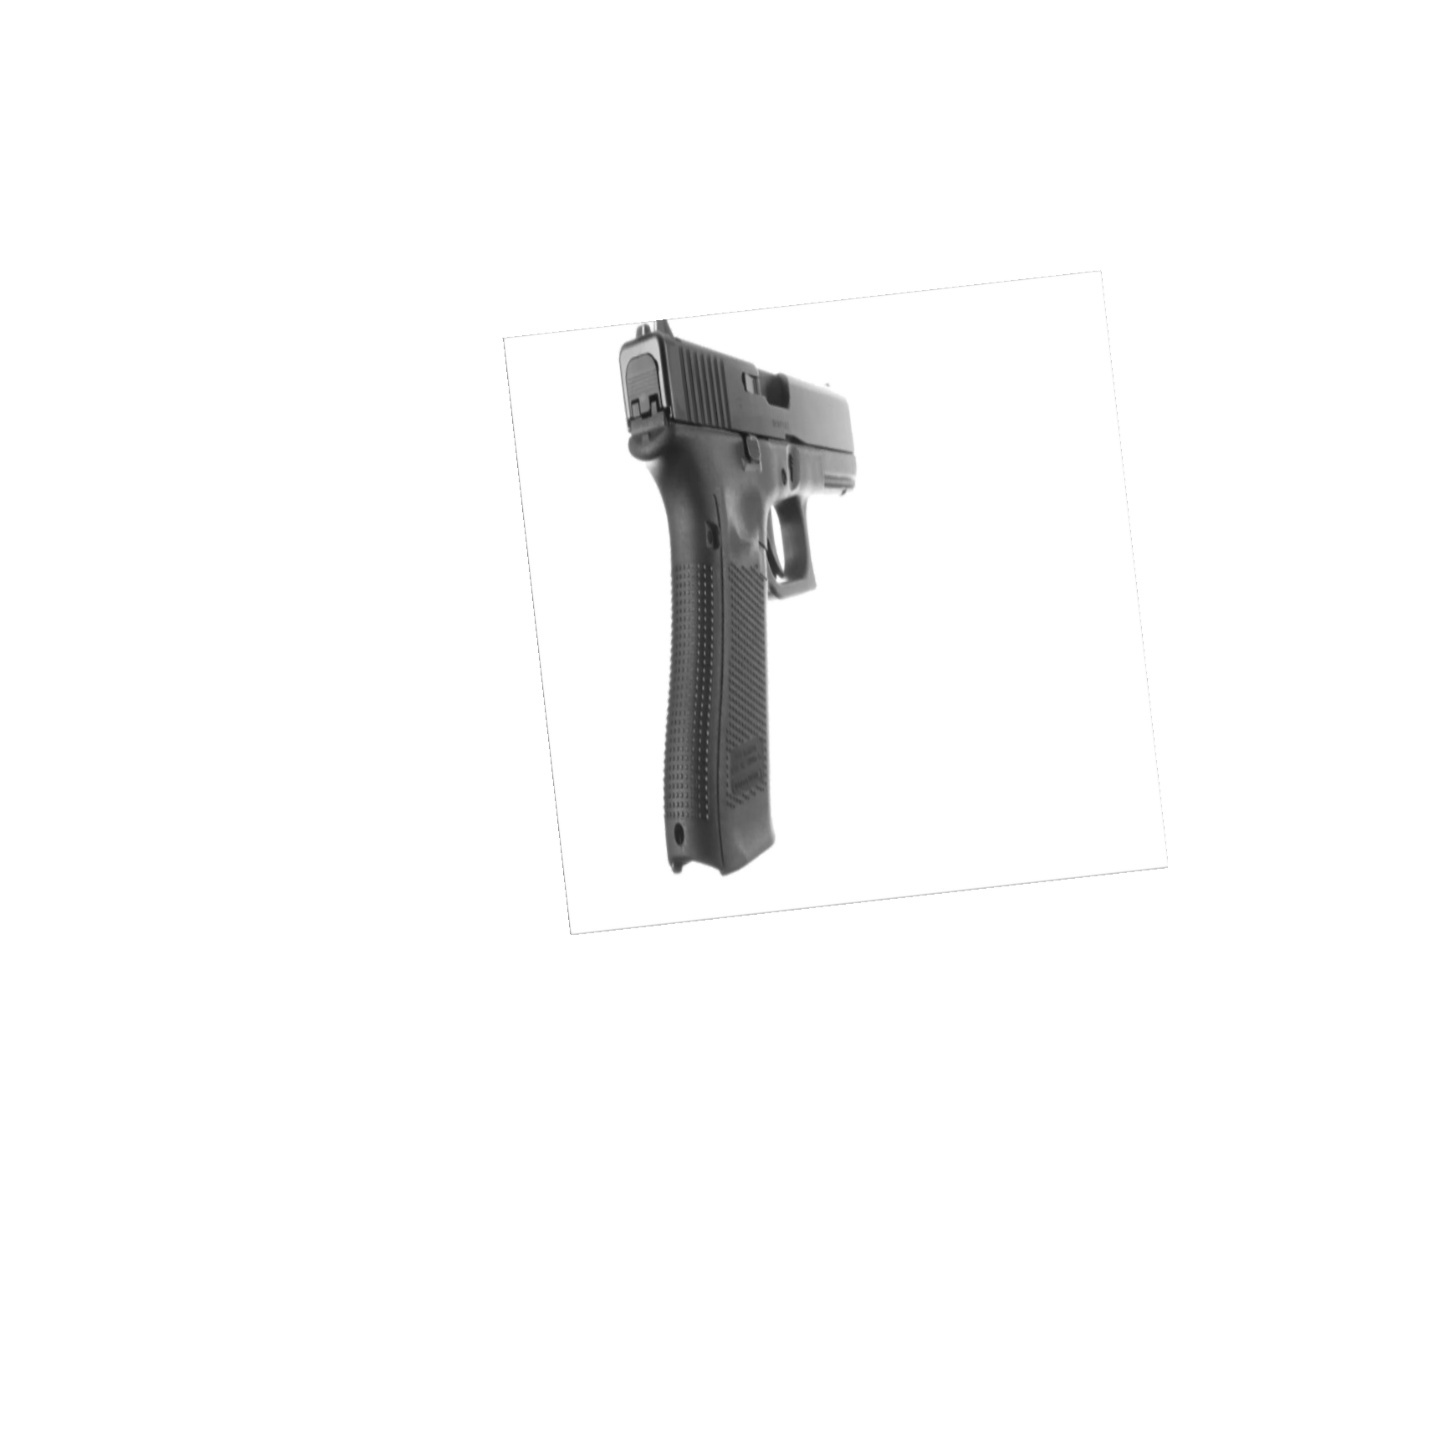gun: (618, 319, 859, 874)
